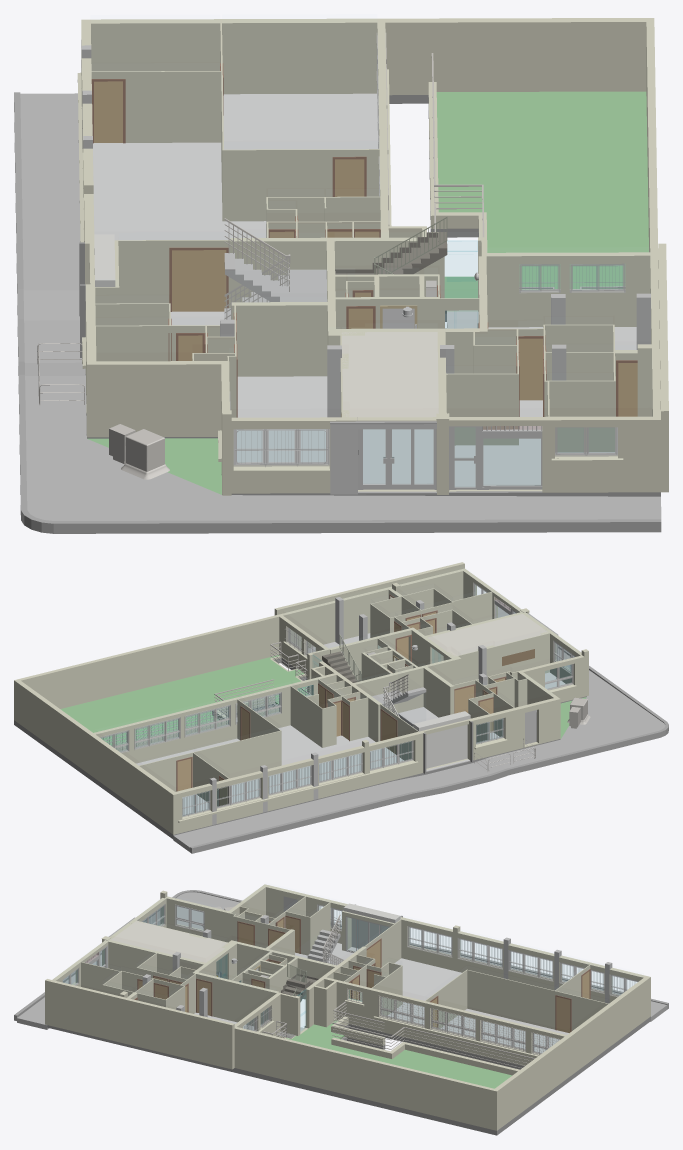
3 views of the same model, one above another, from view 1: azimuth 30°, elevation 25°; view 2: azimuth 150°, elevation 25°; view 3: azimuth 270°, elevation 25° (orthographic). The views are drawn at different scales.
Parts seen in each view (by area): view 1: 3RLTfSMBXE_BWgA7WbvgjJ, 2UhhXCNCjF1xC3dyjbG$SE, 1IQJpSU49DlPKPMYhdab9h, 0JJqPutQD7fgEmZfe5WIOV, 0JJqPutQD7fgEmZfq5WIOV, 0JJqPutQD7fgEmZfe5WIGF, 3RLTfSMBXE_BWgA7WbvgI5, 3RLTfSMBXE_BWgA7Wbvgna, 1ESEB1nMzCOBvAGWBX1s_l, 33ktarrbzBUOiXnLe84g54, 33ktarrbzBUOiXnLe84gQJ, 2uM98Xtxf8dwcRJJRwTGwH (+57 smaller); view 2: 3RLTfSMBXE_BWgA7Wbvgs$, 1IQJpSU49DlPKPMYhdab9h, 3RLTfSMBXE_BWgA7WbvgjJ, 2UhhXCNCjF1xC3dyjbG$SE, 0JJqPutQD7fgEmZfe5WIOV, 1r7kD2unvCQ8TNvjz6uykQ, 0JJqPutQD7fgEmZfq5WIOV, 33ktarrbzBUOiXnLe84g42, 059zzJJCT0Ohc6bi$ICakr, 1ESEB1nMzCOBvAGWBX1s_l, 3RLTfSMBXE_BWgA7WbvgBI, 1rLkdWJRf2ZxmyXYb$CIMe (+54 smaller); view 3: 3RLTfSMBXE_BWgA7Wbvgs$, 321EIHH0v8KOO2s9RjdAGp, 3RLTfSMBXE_BWgA7WbvgjJ, 2UhhXCNCjF1xC3dyjbG$SE, 33ktarrbzBUOiXnLe84g42, 1r7kD2unvCQ8TNvjz6uykQ, 3RLTfSMBXE_BWgA7Wbvfa1, 1IQJpSU49DlPKPMYhdab9h, 1ESEB1nMzCOBvAGWBX1s_l, 3RLTfSMBXE_BWgA7WbvgM$, 3RLTfSMBXE_BWgA7WbvgG4, 3RLTfSMBXE_BWgA7WbvglP (+54 smaller).
Part boxes in pixels (bbox=[...]): 3RLTfSMBXE_BWgA7WbvgjJ: bbox=[90, 18, 646, 95]; 2UhhXCNCjF1xC3dyjbG$SE: bbox=[93, 93, 636, 486]; 1IQJpSU49DlPKPMYhdab9h: bbox=[436, 91, 648, 298]; 0JJqPutQD7fgEmZfe5WIOV: bbox=[25, 376, 221, 520]; 0JJqPutQD7fgEmZfq5WIOV: bbox=[20, 93, 80, 290]; 0JJqPutQD7fgEmZfe5WIGF: bbox=[18, 374, 661, 533]; 3RLTfSMBXE_BWgA7WbvgI5: bbox=[96, 361, 229, 437]; 3RLTfSMBXE_BWgA7Wbvgna: bbox=[481, 252, 650, 327]; 1ESEB1nMzCOBvAGWBX1s_l: bbox=[341, 332, 438, 417]; 33ktarrbzBUOiXnLe84g54: bbox=[91, 71, 221, 142]; 33ktarrbzBUOiXnLe84gQJ: bbox=[224, 149, 379, 221]; 2uM98Xtxf8dwcRJJRwTGwH: bbox=[231, 302, 327, 376]; 3RLTfSMBXE_BWgA7Wbvgs$: bbox=[14, 568, 466, 721]; 1IQJpSU49DlPKPMYhdab9h: bbox=[60, 655, 308, 746]; 3RLTfSMBXE_BWgA7WbvgjJ: bbox=[16, 680, 174, 832]; 2UhhXCNCjF1xC3dyjbG$SE: bbox=[136, 633, 565, 814]; 0JJqPutQD7fgEmZfe5WIOV: bbox=[490, 690, 665, 768]; 1r7kD2unvCQ8TNvjz6uykQ: bbox=[94, 685, 287, 763]; 0JJqPutQD7fgEmZfq5WIOV: bbox=[173, 781, 409, 852]; 33ktarrbzBUOiXnLe84g42: bbox=[139, 730, 281, 791]; 059zzJJCT0Ohc6bi$ICakr: bbox=[467, 697, 560, 760]; 1ESEB1nMzCOBvAGWBX1s_l: bbox=[427, 614, 548, 656]; 3RLTfSMBXE_BWgA7WbvgBI: bbox=[353, 657, 461, 714]; 1rLkdWJRf2ZxmyXYb$CIMe: bbox=[413, 711, 470, 768]; 3RLTfSMBXE_BWgA7Wbvgs$: bbox=[234, 1026, 498, 1130]; 321EIHH0v8KOO2s9RjdAGp: bbox=[45, 979, 234, 1069]; 3RLTfSMBXE_BWgA7WbvgjJ: bbox=[495, 978, 648, 1128]; 2UhhXCNCjF1xC3dyjbG$SE: bbox=[194, 943, 568, 1052]; 33ktarrbzBUOiXnLe84g42: bbox=[467, 969, 608, 1030]; 1r7kD2unvCQ8TNvjz6uykQ: bbox=[372, 989, 566, 1066]; 3RLTfSMBXE_BWgA7Wbvfa1: bbox=[47, 1016, 650, 1135]; 1IQJpSU49DlPKPMYhdab9h: bbox=[286, 1020, 512, 1088]; 1ESEB1nMzCOBvAGWBX1s_l: bbox=[111, 921, 227, 962]; 3RLTfSMBXE_BWgA7WbvgM$: bbox=[196, 972, 278, 1026]; 3RLTfSMBXE_BWgA7WbvgG4: bbox=[108, 940, 205, 974]; 3RLTfSMBXE_BWgA7WbvglP: bbox=[321, 976, 374, 1029].
Size of the model in its own units: 32.78 by 4.51 by 37.66.
